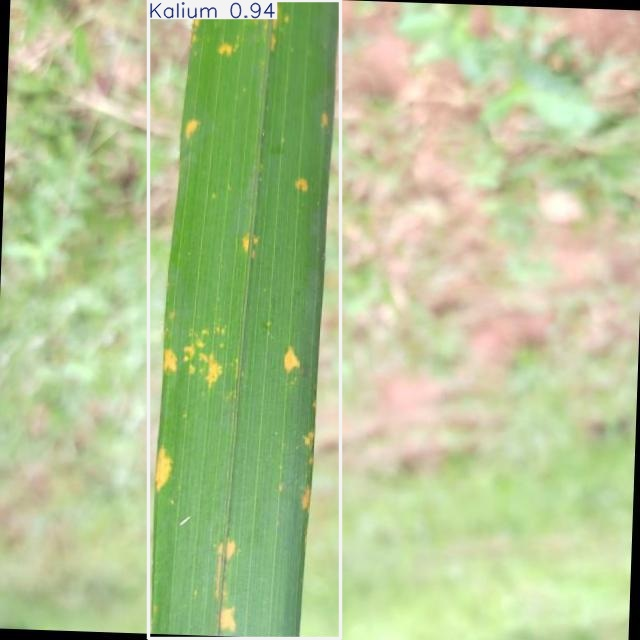Kalium: (149, 1, 341, 639)
